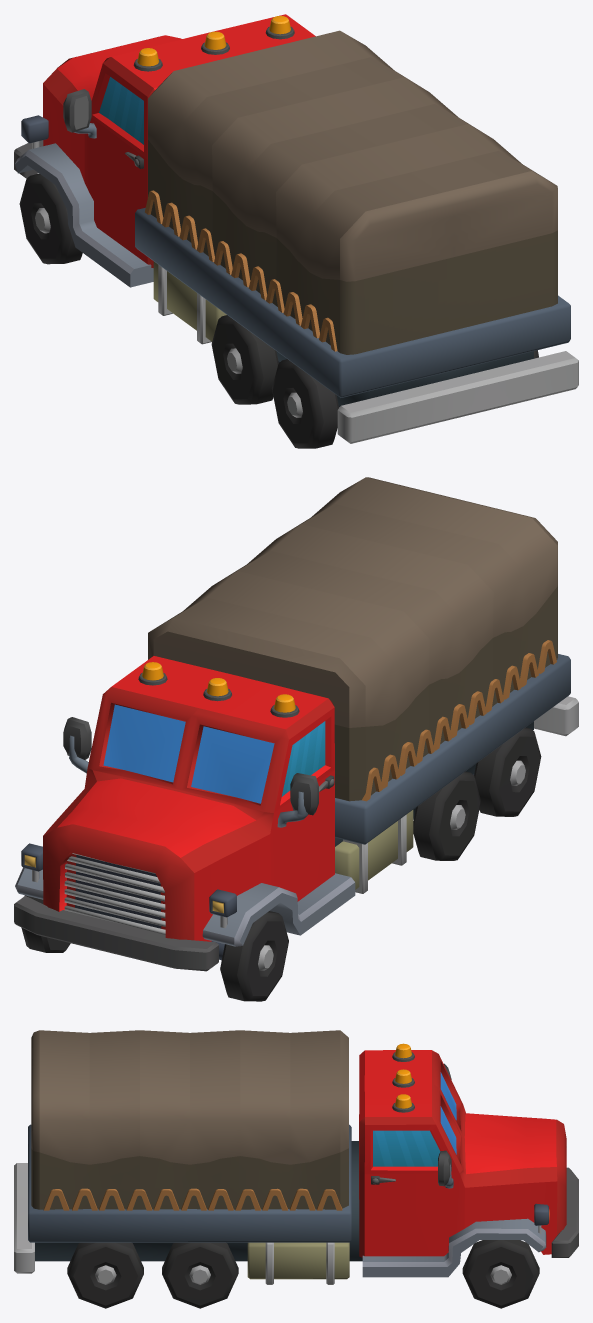
The model's file is Truck_1_F.fbx.
3 renders of one model, top to bottom at view 1: azimuth 30°, elevation 25°; view 2: azimuth 150°, elevation 25°; view 3: azimuth 270°, elevation 25°, orthographic. The views are drawn at different scales.
Visible parts, largest first — view 1: Truck_1_F, Truck_1_F_WL; view 2: Truck_1_F, Truck_1_F_WL, Truck_1_F_WR; view 3: Truck_1_F, Truck_1_F_WR.
Boxes of the visible parts, <box> form: Truck_1_F: <box>14,14,578,448</box>; Truck_1_F_WL: <box>19,173,82,264</box>; Truck_1_F: <box>14,477,578,971</box>; Truck_1_F_WL: <box>220,911,288,1001</box>; Truck_1_F_WR: <box>21,895,70,952</box>; Truck_1_F: <box>14,1030,578,1308</box>; Truck_1_F_WR: <box>462,1240,539,1308</box>.
Size of the model in its own units: 212 by 210 by 524.
